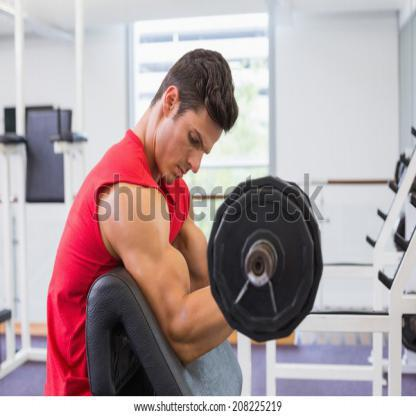Barbell: (202, 170, 331, 352)
